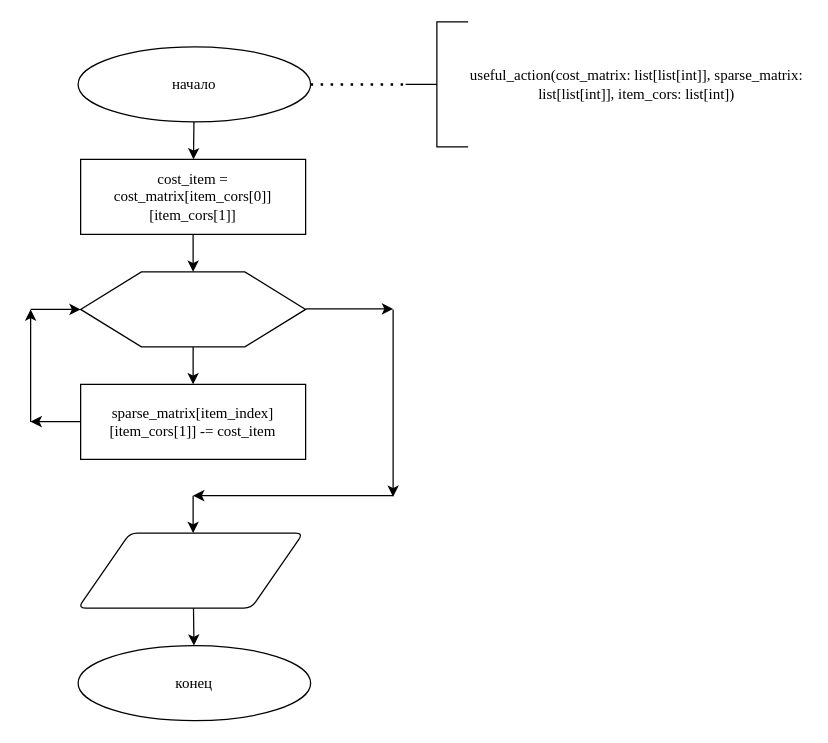
This 828x743 diagram has some shape labels left out. Here are the shapes that lost their labels. From the top down, the centre of each, then its label:
At point (192, 309): "item_index = 0, range(len(sparse_matrix)".
At point (190, 570): "return sparse_matrix".
